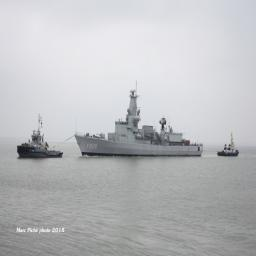Fragata: (74, 78, 205, 158)
